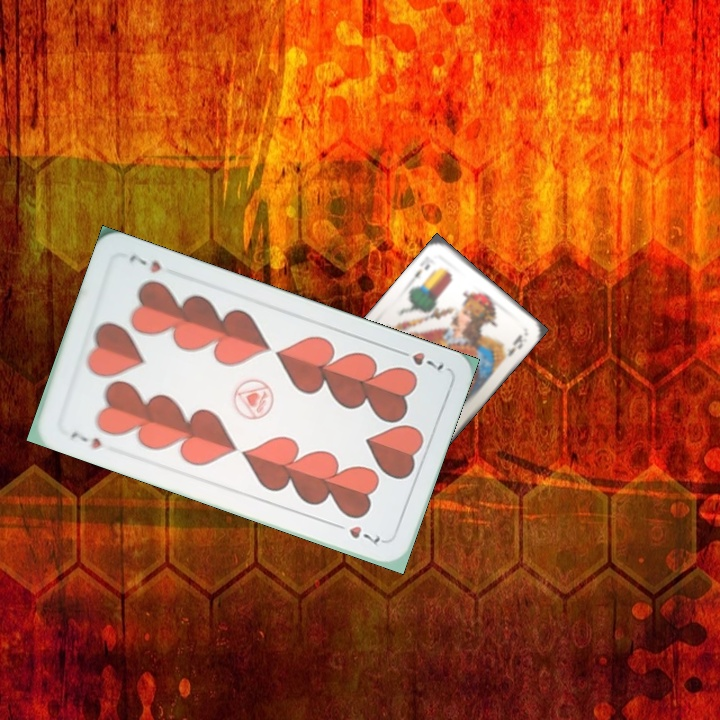EK: (406, 260, 433, 285)
H7: (392, 345, 447, 376), (66, 427, 104, 452)
